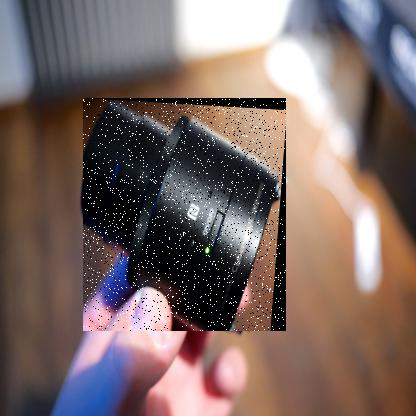Camera: (84, 99, 288, 333)
